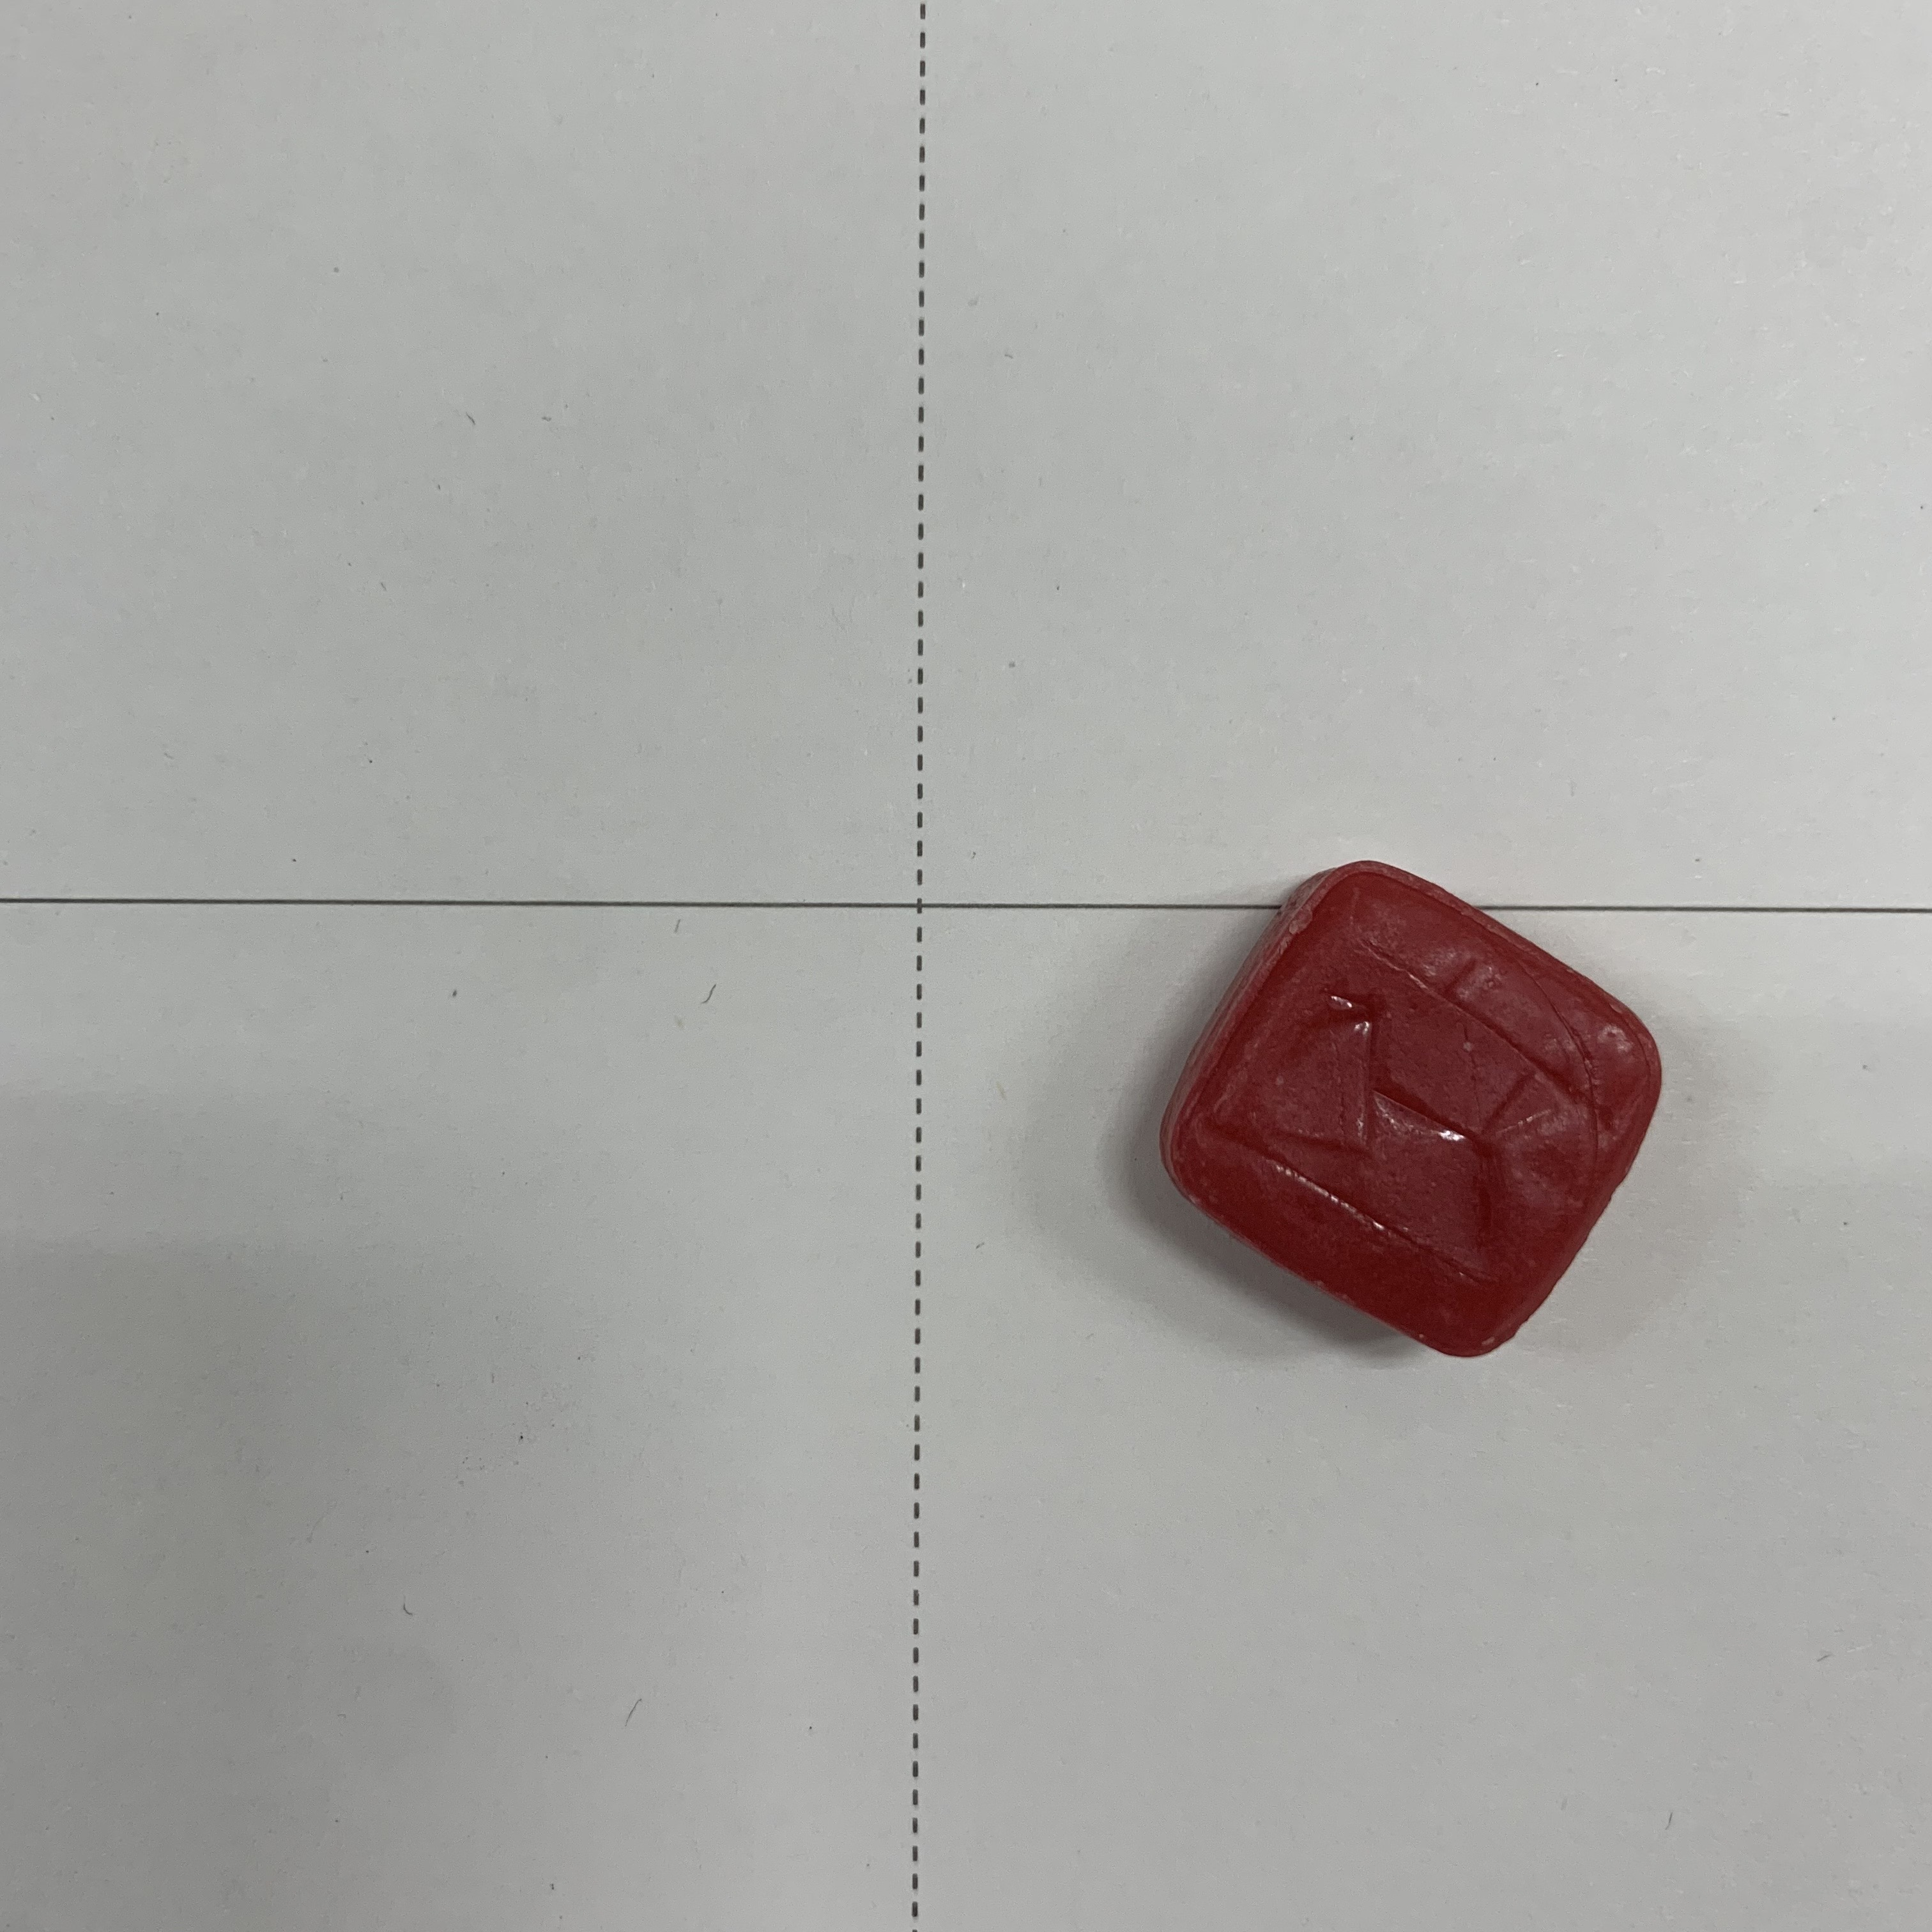sqr_drug: (1136, 842, 1674, 1378)
